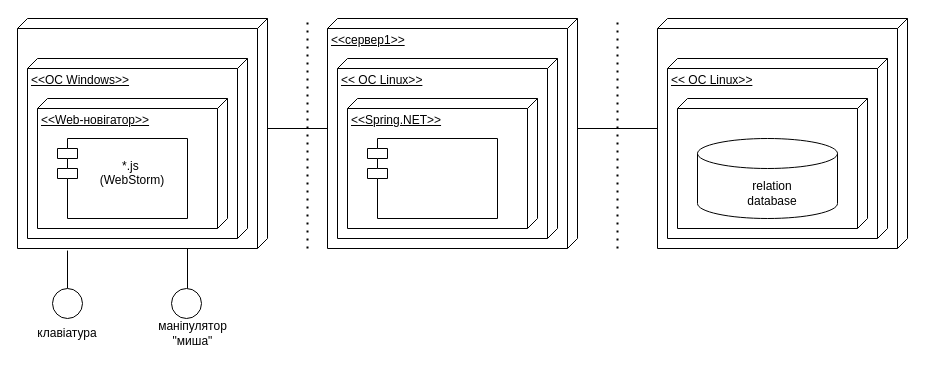
Some shapes in this 925 by 365 pixel diagram are drawn without their labels. The shapes that lost their labels are listed below. From the top down, each one's box as (x1, y1, x2, y2) in pixels, then its label:
(16, 18, 268, 248): <<Настільний компьютер>>
(656, 18, 908, 248): <<сервер2>>
(366, 138, 498, 218): *.jar
(676, 98, 868, 228): <<Database server Oracle>>
